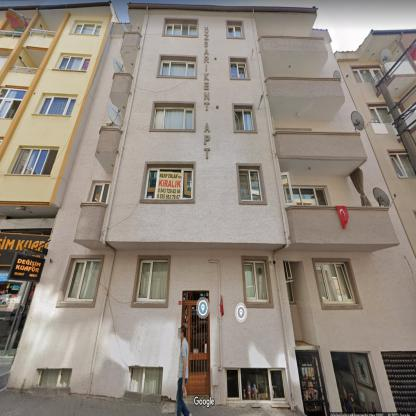door: (182, 303, 210, 395), (296, 350, 329, 414), (8, 282, 36, 354), (382, 352, 415, 411), (390, 154, 415, 176), (353, 68, 384, 82), (282, 172, 294, 206), (370, 107, 394, 122), (90, 184, 103, 202)
window: (0, 272, 27, 355), (226, 369, 286, 401), (315, 263, 356, 304), (144, 168, 193, 199), (64, 260, 100, 302), (136, 261, 168, 301), (10, 148, 58, 174), (244, 262, 268, 302), (128, 368, 162, 393), (152, 108, 194, 128), (284, 188, 328, 206), (1, 88, 27, 118), (37, 96, 76, 115), (239, 169, 262, 200), (160, 61, 195, 76), (57, 56, 90, 70), (166, 23, 196, 36), (235, 109, 253, 130), (72, 23, 101, 34), (183, 291, 208, 302), (231, 63, 246, 78), (100, 184, 110, 202), (228, 26, 242, 37)
